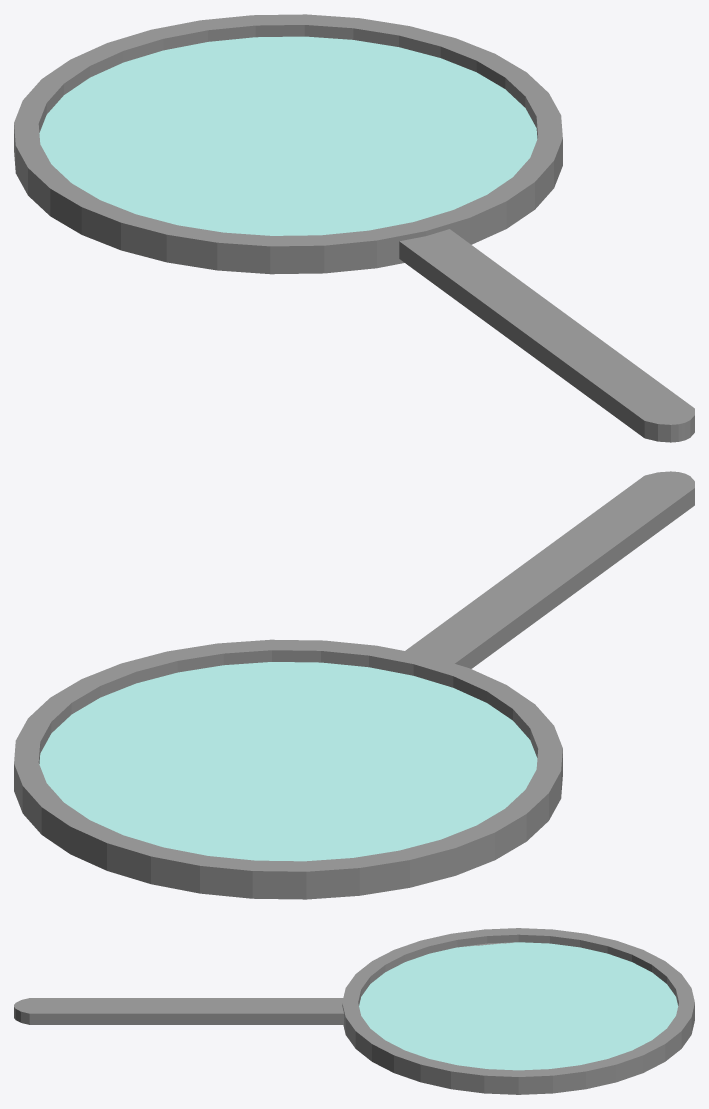
Rendered from magnifying_glass.fbx.
The picture shows the model from 3 angles, top to bottom: view 1: azimuth 30°, elevation 25°; view 2: azimuth 150°, elevation 25°; view 3: azimuth 270°, elevation 25°; orthographic projection. The views are drawn at different scales.
Visible parts, largest first — view 1: Cylinder; view 2: Cylinder; view 3: Cylinder.
Part boxes in pixels (bbox=[...]): Cylinder: bbox=[14, 14, 694, 442]; Cylinder: bbox=[14, 471, 694, 899]; Cylinder: bbox=[14, 928, 694, 1094].
Bounding box in the file's own units: 200 × 11.15 × 386.
